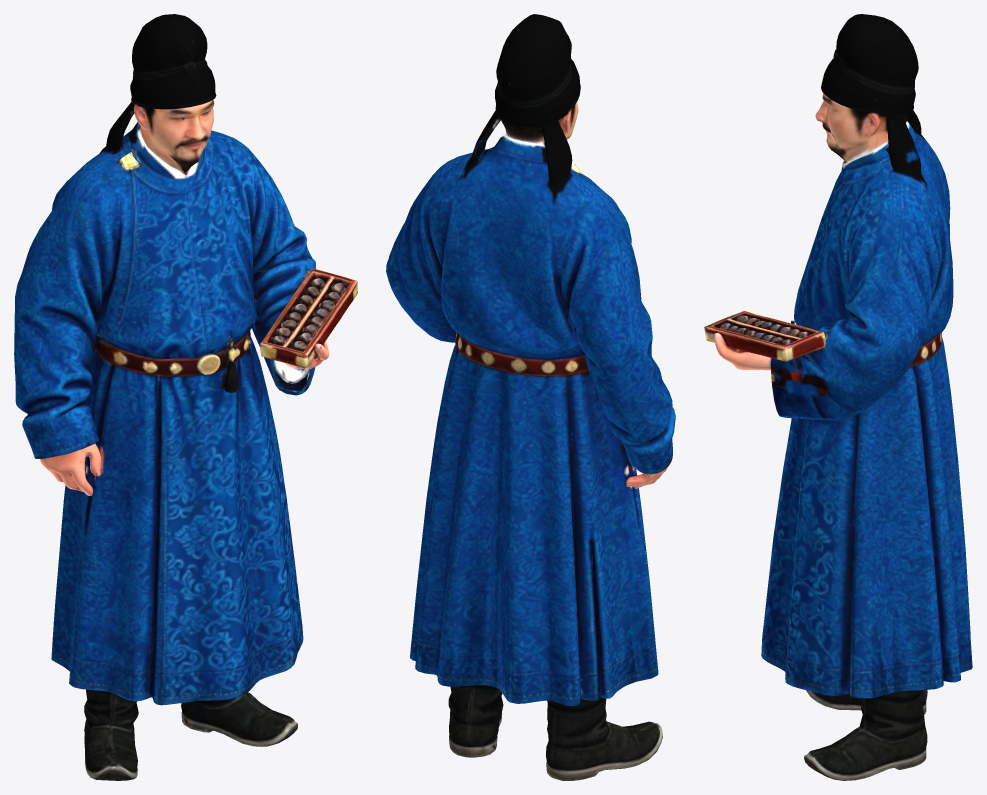
The model's file is p_merchant.glb.
3 renders of one model, left to right at view 1: azimuth 30°, elevation 25°; view 2: azimuth 150°, elevation 25°; view 3: azimuth 270°, elevation 25°, orthographic.
Parts seen in each view (by area): view 1: p_merchant; view 2: p_merchant; view 3: p_merchant.
Part boxes in pixels (x1,y1,x2,y2): p_merchant: [14, 14, 357, 780]; p_merchant: [386, 14, 675, 780]; p_merchant: [704, 14, 972, 780].
Bounding box in the file's own units: 0.7119 × 1.75 × 0.5908.
1 material, 1 textured.
